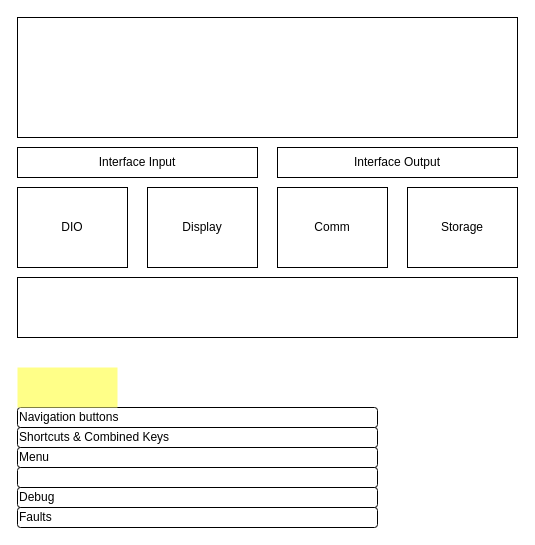
Image size: 535x545. Some labels were removed from this diagram. Each missing label, with the box of its shape:
CORE (Controlling and Processing): (16, 16, 518, 138)
Examples:: (17, 367, 117, 407)
HAL library: (16, 276, 518, 338)
Parameter (read/save/change/compare/import/export/reset): (16, 466, 378, 488)
